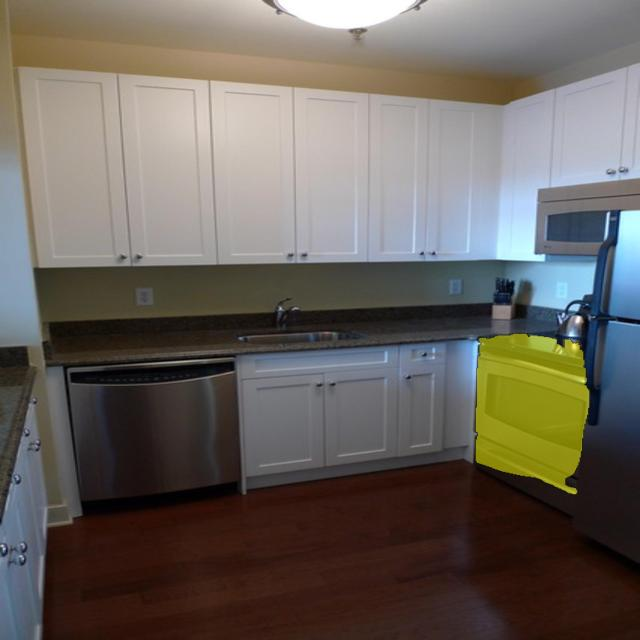dishwasher: (65, 357, 243, 500)
